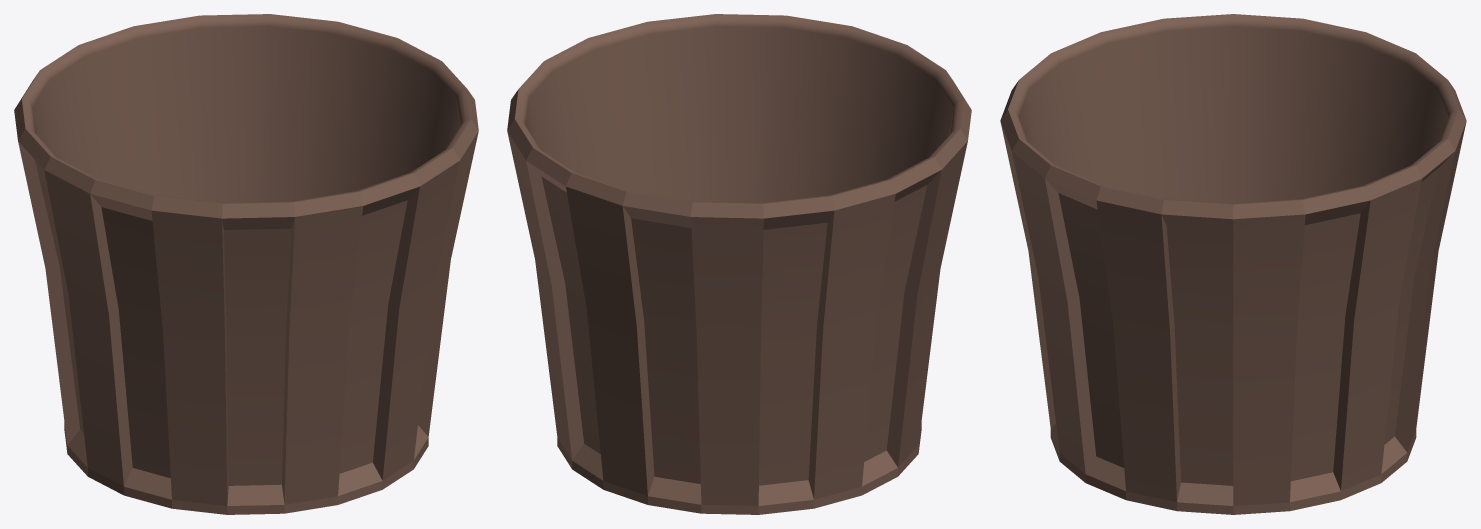
Rendered from Crate_Model_V04.fbx.
3 renders of one model, left to right at view 1: azimuth 30°, elevation 25°; view 2: azimuth 150°, elevation 25°; view 3: azimuth 270°, elevation 25°, orthographic.
Visible parts, largest first — view 1: pCylinder3; view 2: pCylinder3; view 3: pCylinder3.
Boxes of the visible parts, x1,y1,x2,y2 form: pCylinder3: (14,14,478,514); pCylinder3: (507,14,971,514); pCylinder3: (1000,14,1466,514).
Size of the model in its own units: 108 by 83.55 by 108.
Materials: 1 (1 with a texture image).
